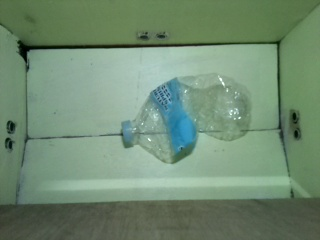damaged-bottle: (120, 70, 253, 164)
